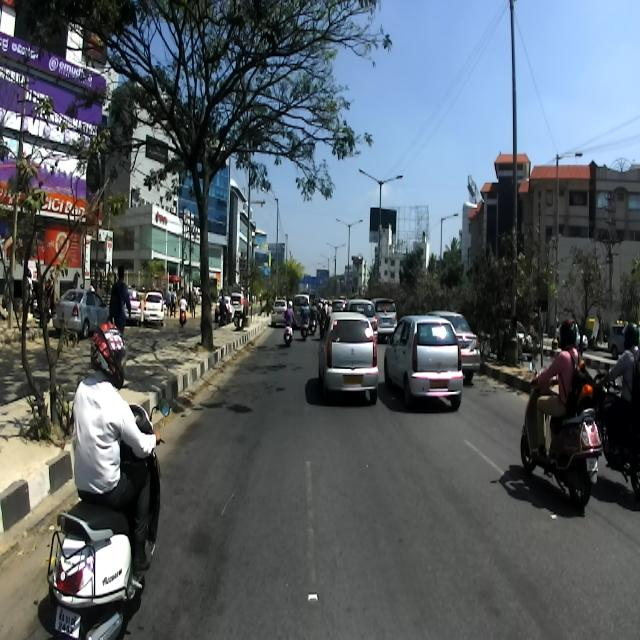car ahead at: (386, 314, 468, 411), (314, 301, 382, 412)
motorcycle ahead at: (40, 494, 163, 640), (520, 382, 610, 518)
